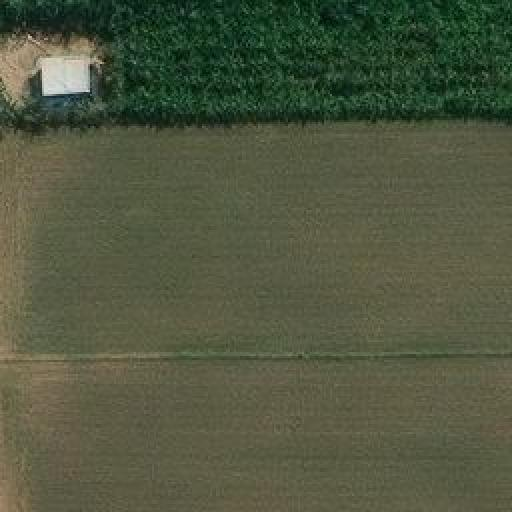manzanas: (1, 33, 100, 104)
